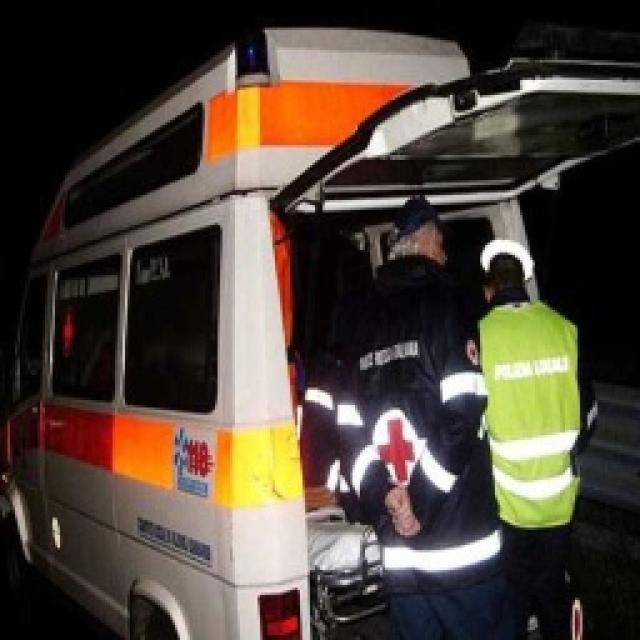emergency-vehicle: (6, 7, 586, 640)
